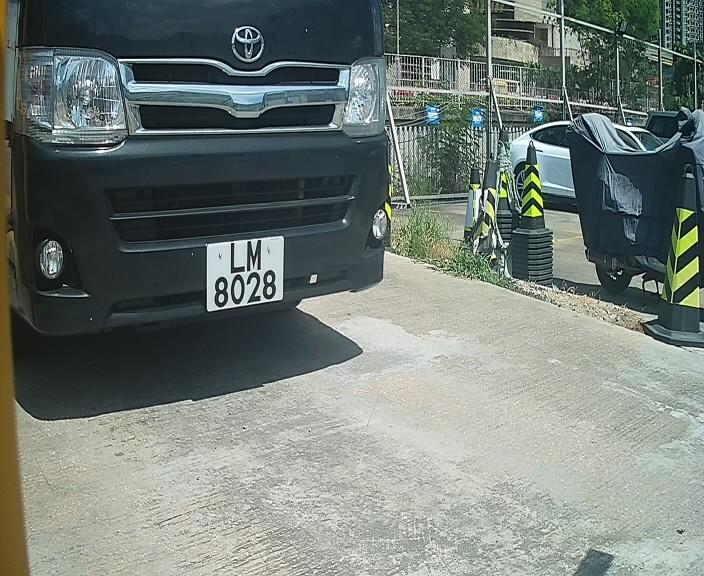License Plate: (192, 232, 296, 317)
